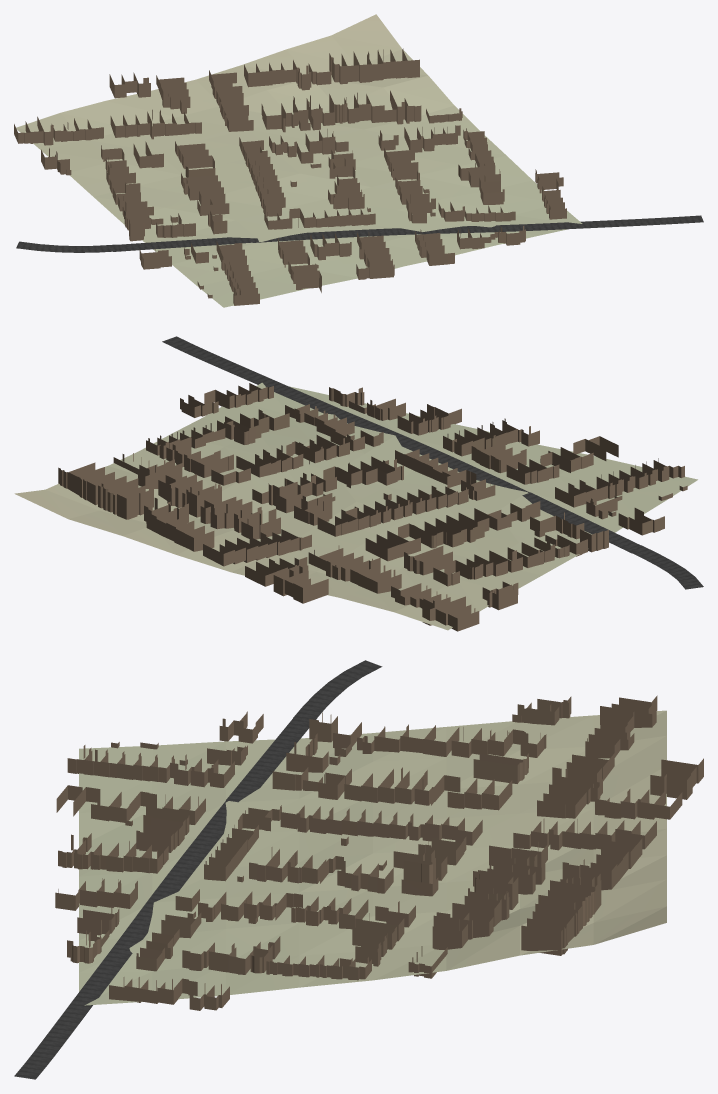
File: tile_34_-3_lod1.gltf
3 views of the same model, one above another, from view 1: azimuth 30°, elevation 25°; view 2: azimuth 150°, elevation 25°; view 3: azimuth 270°, elevation 25° (orthographic). The views are drawn at different scales.
Visible parts, largest first — view 1: Terrain_col, Buildings_col, Roads; view 2: Buildings_col, Terrain_col, Roads; view 3: Buildings_col, Terrain_col, Roads.
Part boxes in pixels (box(x1,y1,x2,y2)): Terrain_col: box(16, 14, 582, 307); Buildings_col: box(14, 48, 566, 305); Roads: box(16, 215, 703, 252); Buildings_col: box(58, 383, 687, 631); Terrain_col: box(14, 382, 697, 630); Roads: box(162, 336, 703, 589); Buildings_col: box(55, 695, 703, 1010); Terrain_col: box(79, 710, 666, 1005); Roads: box(14, 660, 382, 1079).
Size of the model in its own units: 403 by 41.99 by 300.
3 materials, 1 textured.
